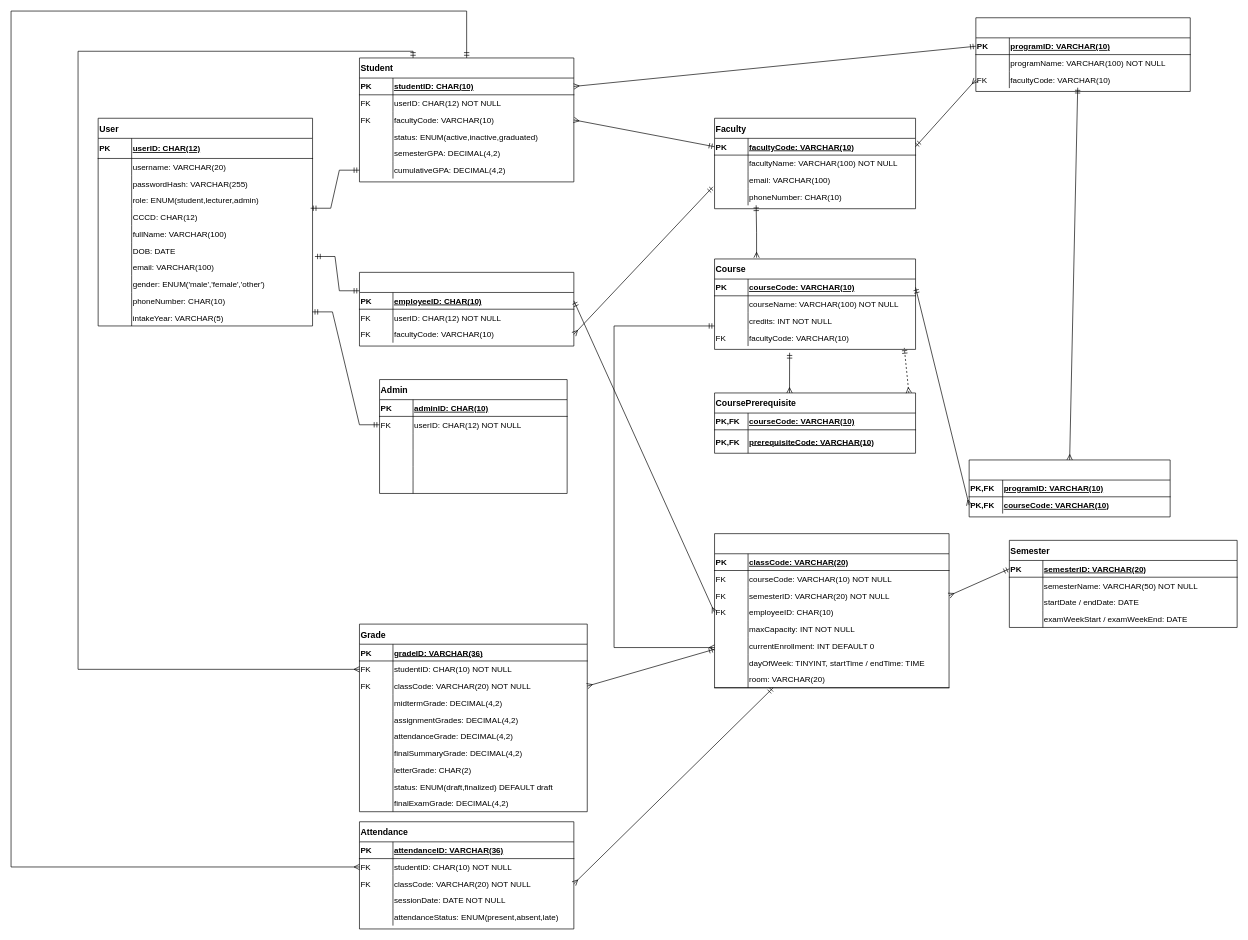
The diagram is 1248 pixels wide and 940 high, and some of its shapes have lost their labels. Here are the shapes that lost their labels. From the top down, the box of each, then its label:
(975, 17, 1190, 91): TrainingProgram
(359, 272, 574, 346): Lecturer
(968, 459, 1170, 517): ProgramCourse
(714, 533, 949, 688): ClassSection
